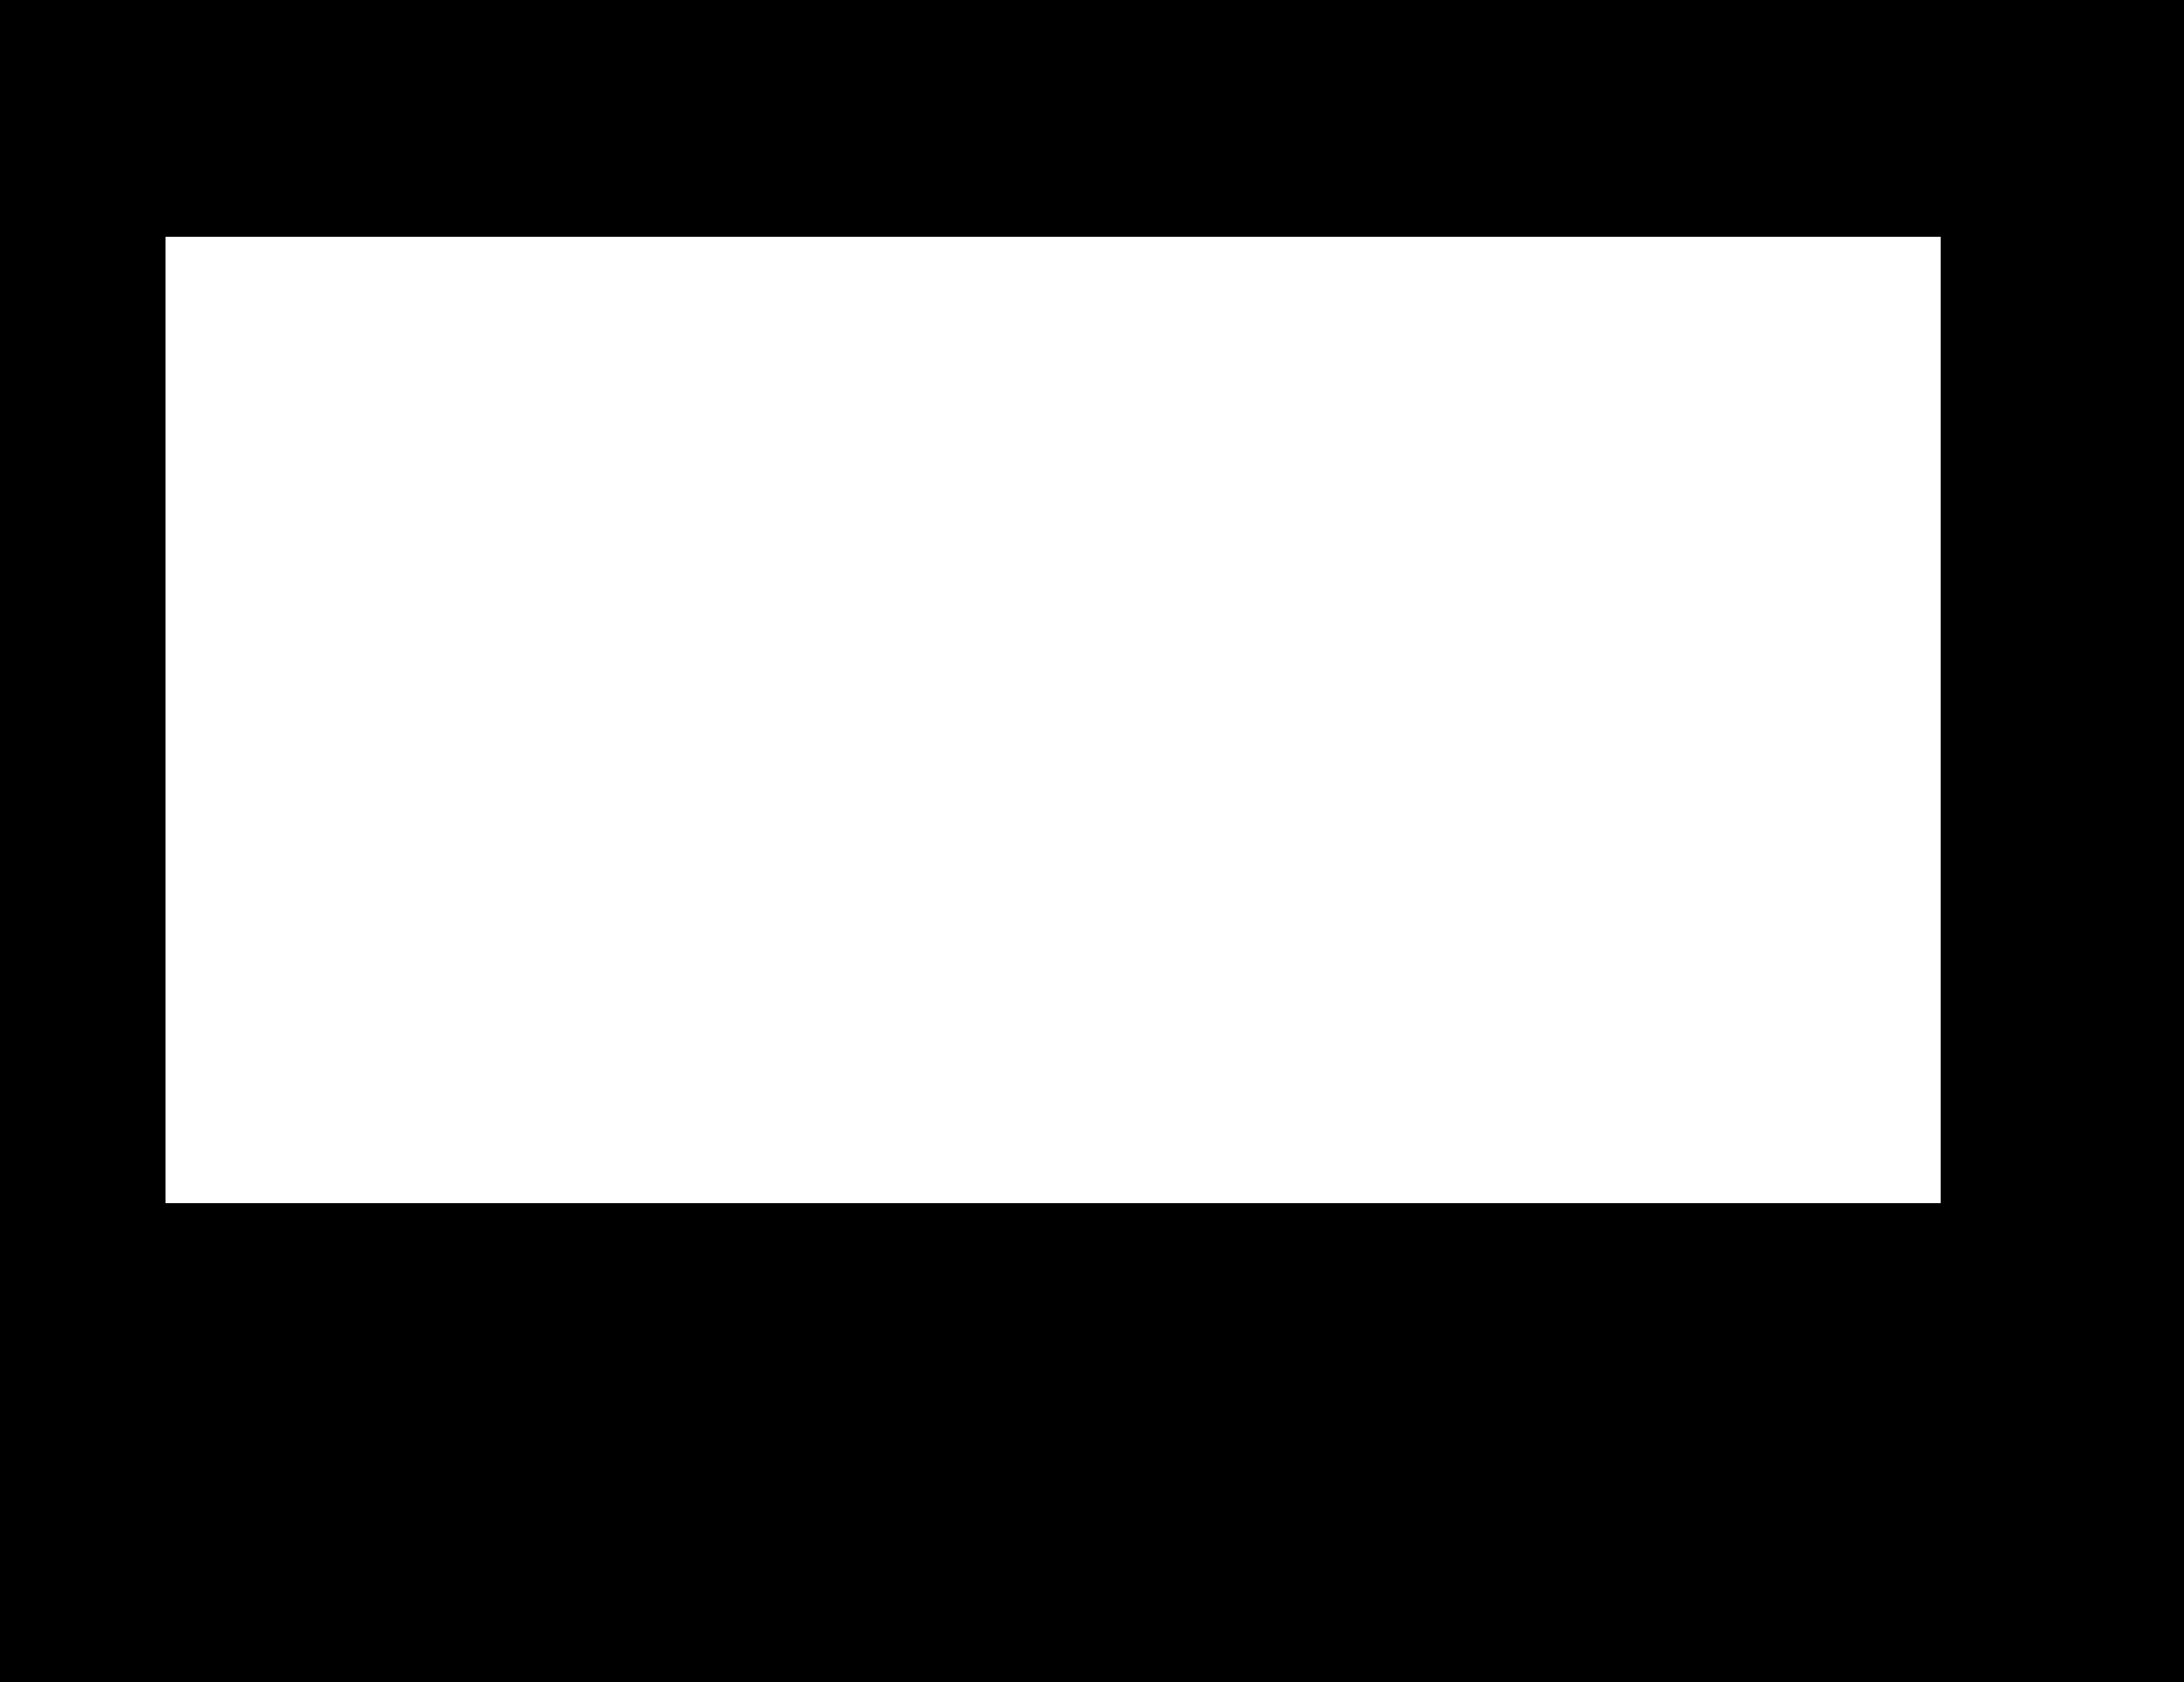table: (166, 237, 1940, 1203)
